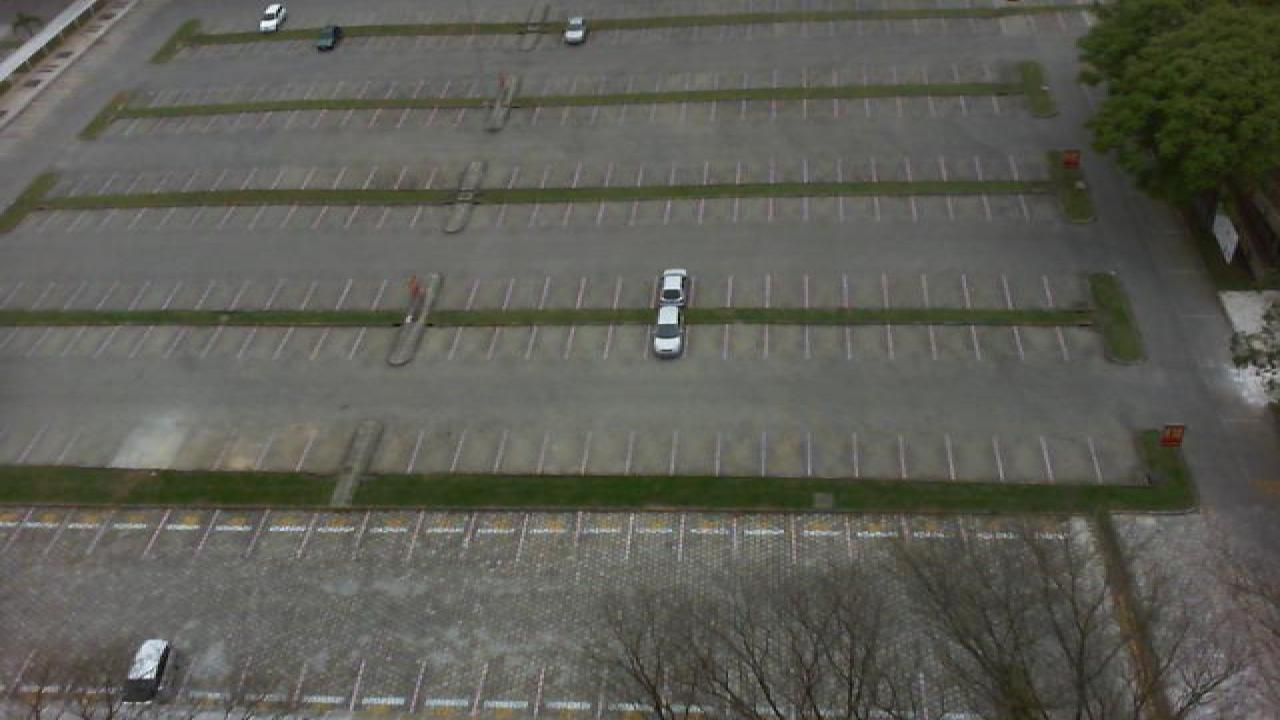Car: (122, 638, 176, 702), (648, 305, 686, 360), (654, 268, 690, 312), (258, 3, 288, 34), (562, 16, 590, 46), (314, 25, 342, 52)
